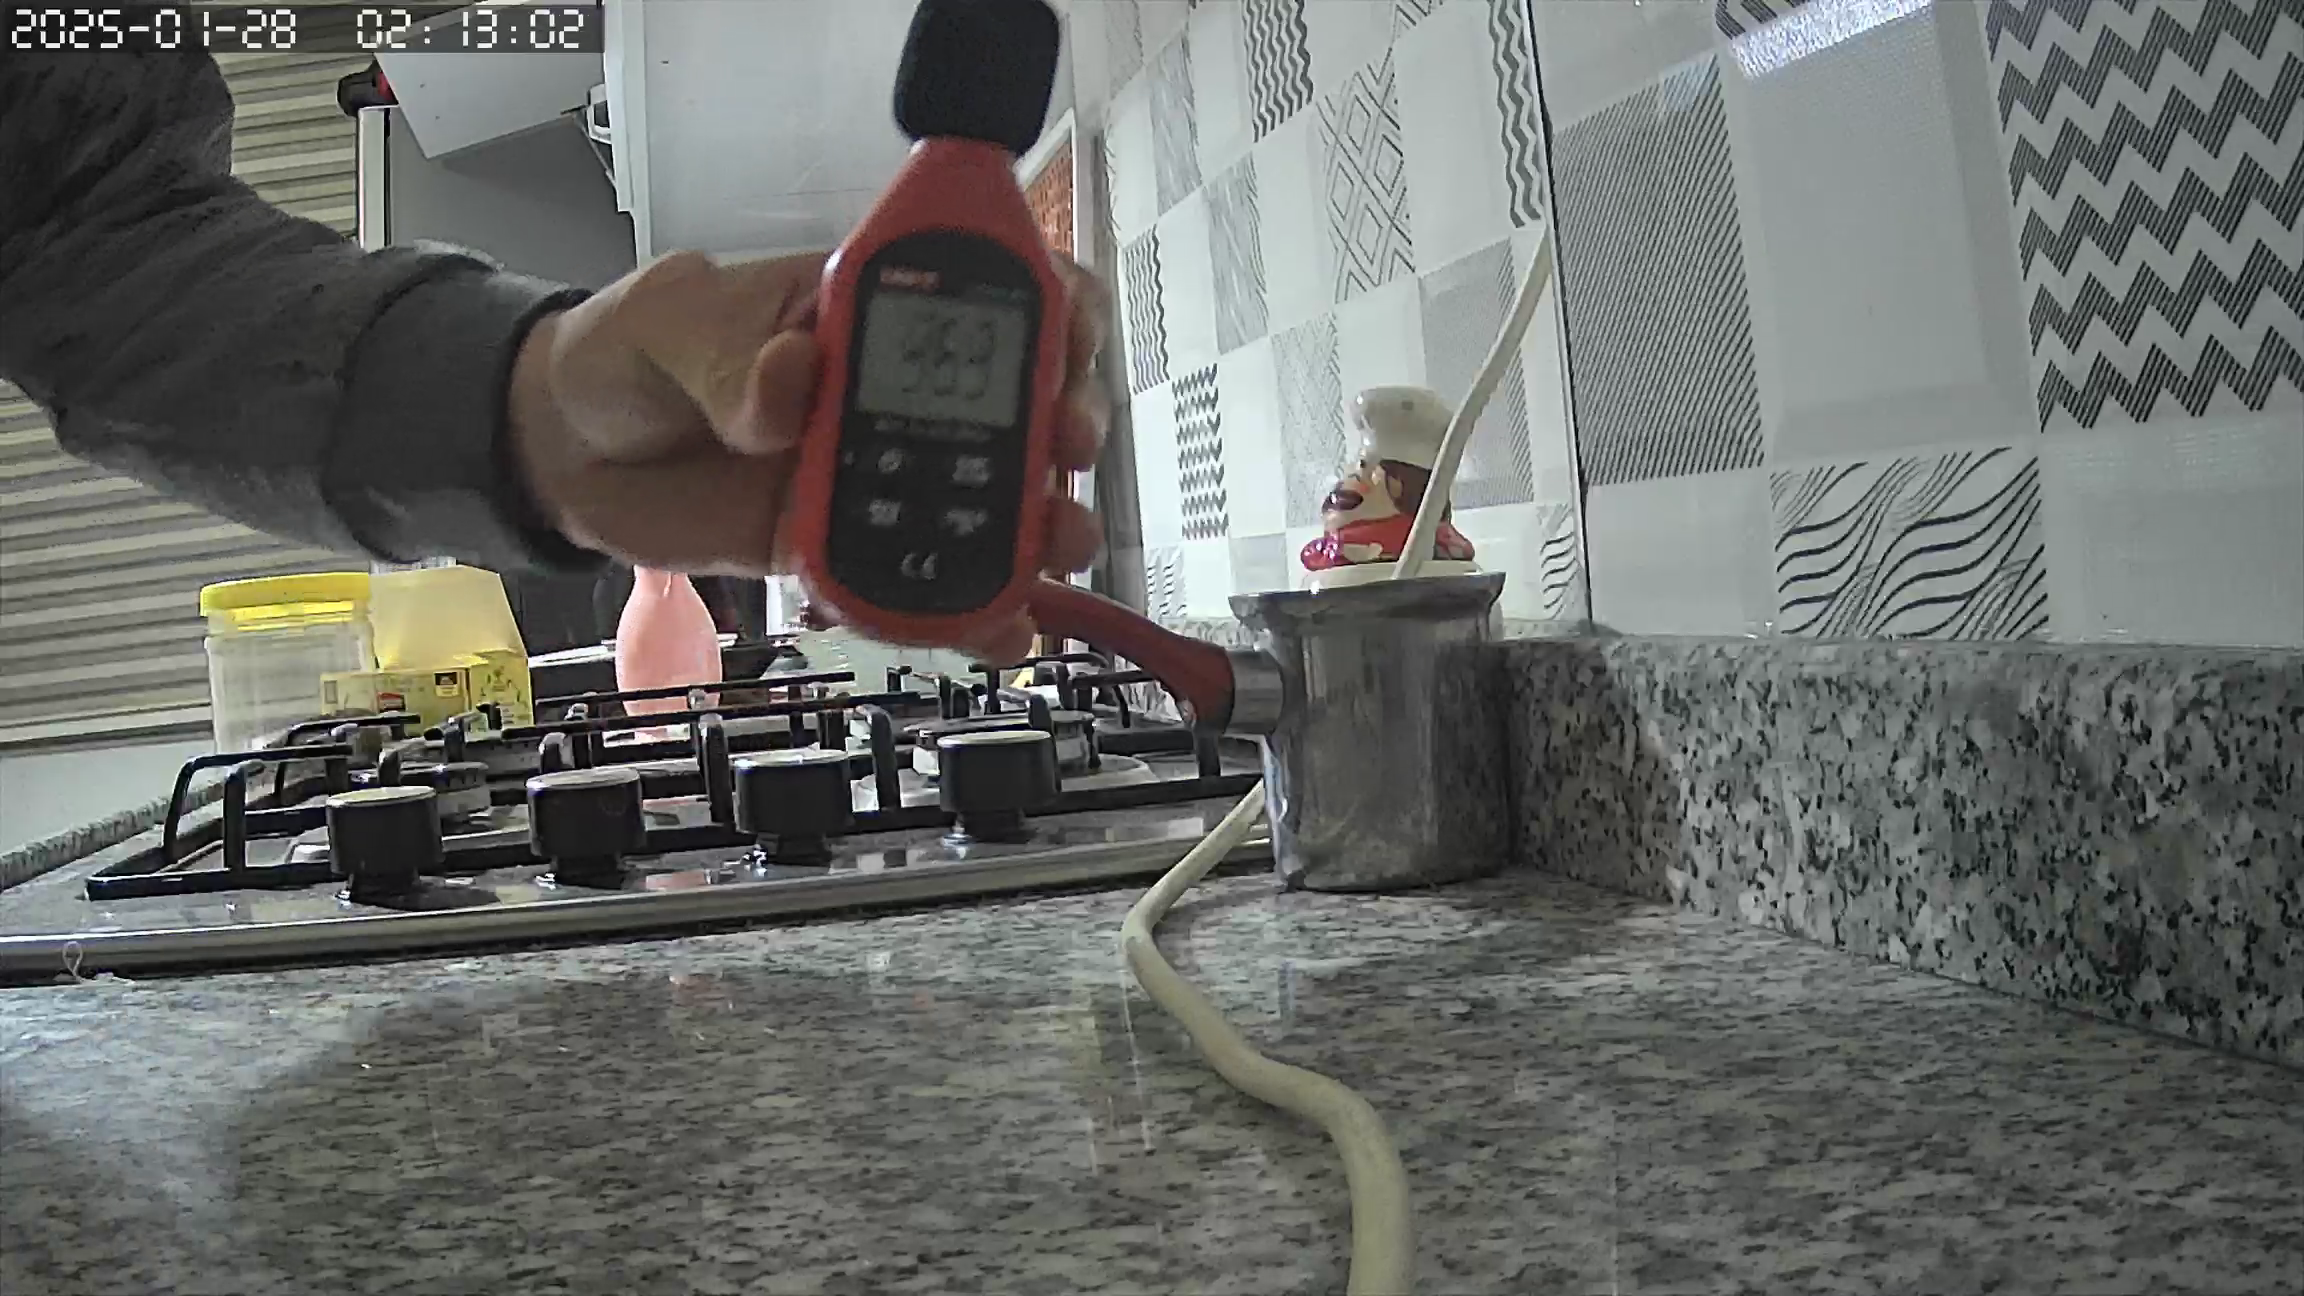screen: (858, 291, 1027, 427)
